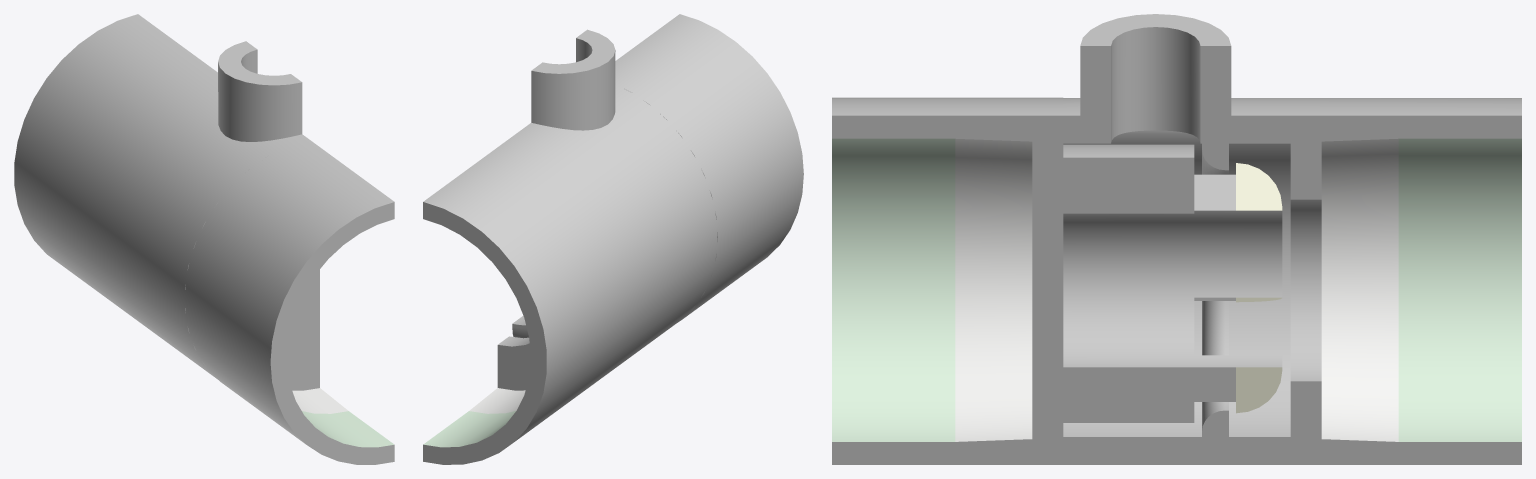
File: spin.glb
The picture shows the model from 3 angles, left to right: view 1: azimuth 30°, elevation 25°; view 2: azimuth 150°, elevation 25°; view 3: azimuth 270°, elevation 25°; orthographic projection. The views are drawn at different scales.
Visible parts, largest first — view 1: Body9, Body10; view 2: Body9, Body10; view 3: Body10, Body9.
Part boxes in pixels (x1,y1,x2,y2): Body9: (14, 14, 308, 379); Body10: (184, 139, 394, 464); Body9: (423, 29, 717, 464); Body10: (512, 14, 803, 338); Body10: (832, 97, 1282, 464); Body9: (1063, 14, 1521, 464).
Bounding box in the file's own units: 1.25 × 3 × 4.47.
